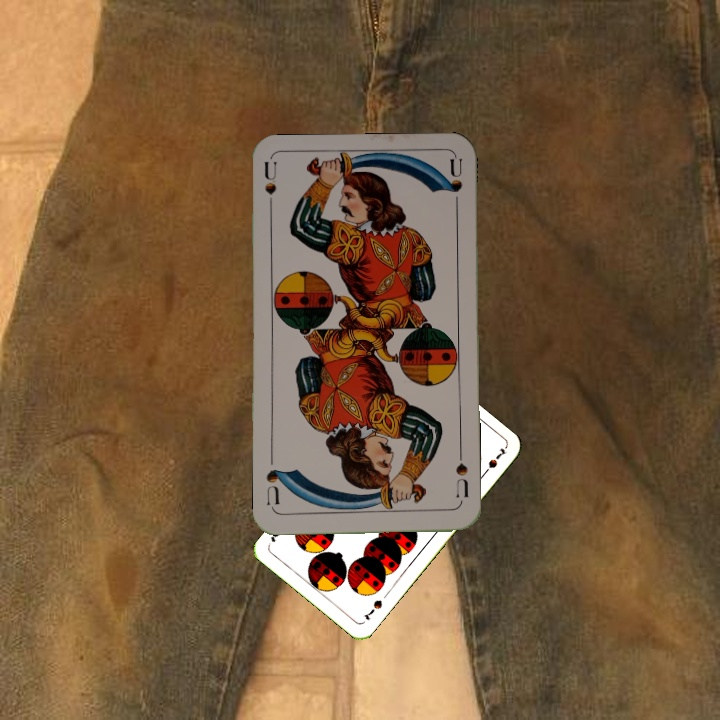S7: (359, 595, 385, 623)
SU: (261, 159, 280, 219), (452, 447, 471, 500)
